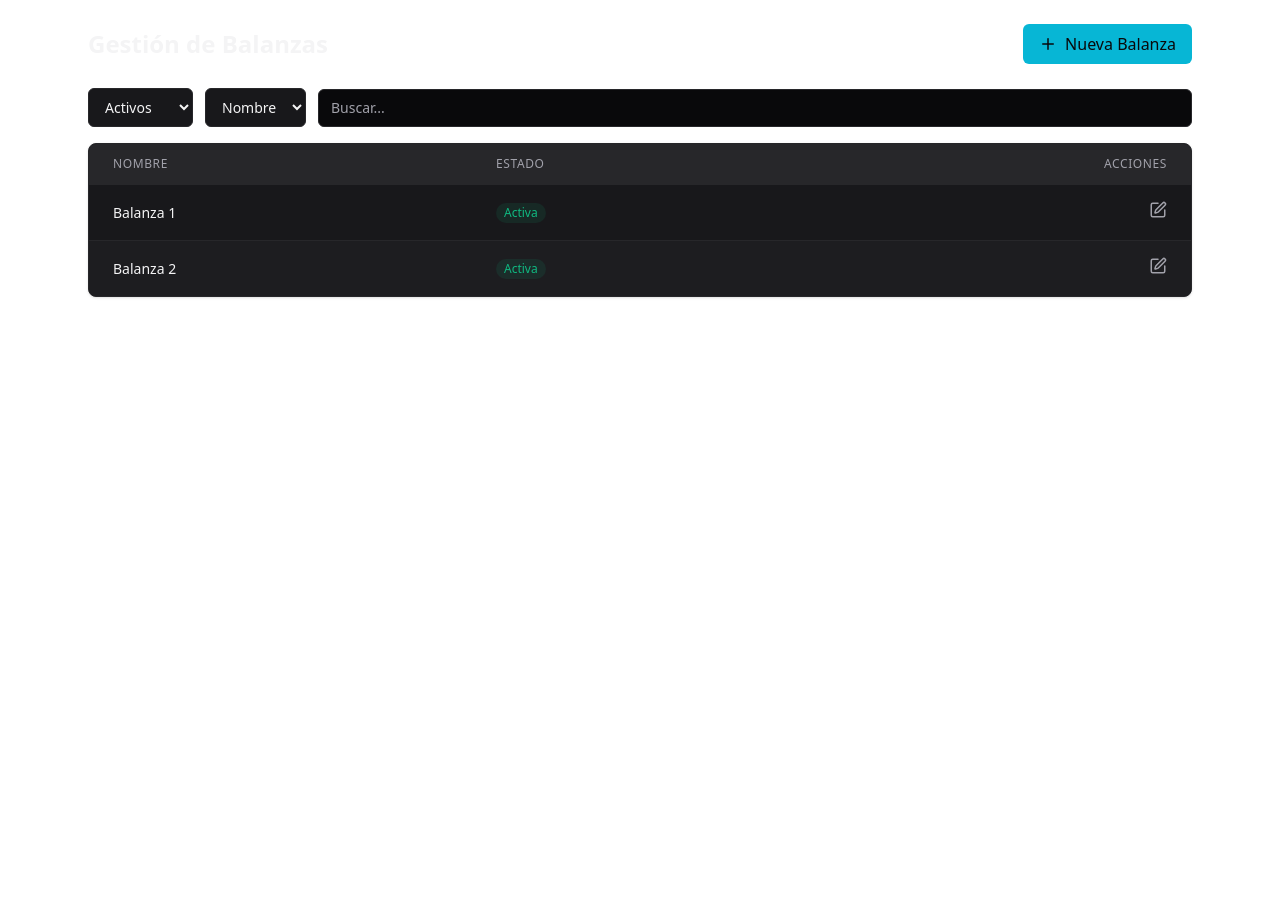
BalanzasPage › delete confirm dialog › confirming the delete dialog sends the DELETE request and closes both dialogs
This screenshot has width=1280, height=900.
Check: the text "Balanza 1" is shown, box x1=89 y1=184 x2=472 y2=240
What coordinates should you click on to do the following:
click the button titled "Editar" in the row of "Balanza 1"
I would click on:
 (1158, 210)
Its box is x1=1149 y1=201 x2=1167 y2=219.
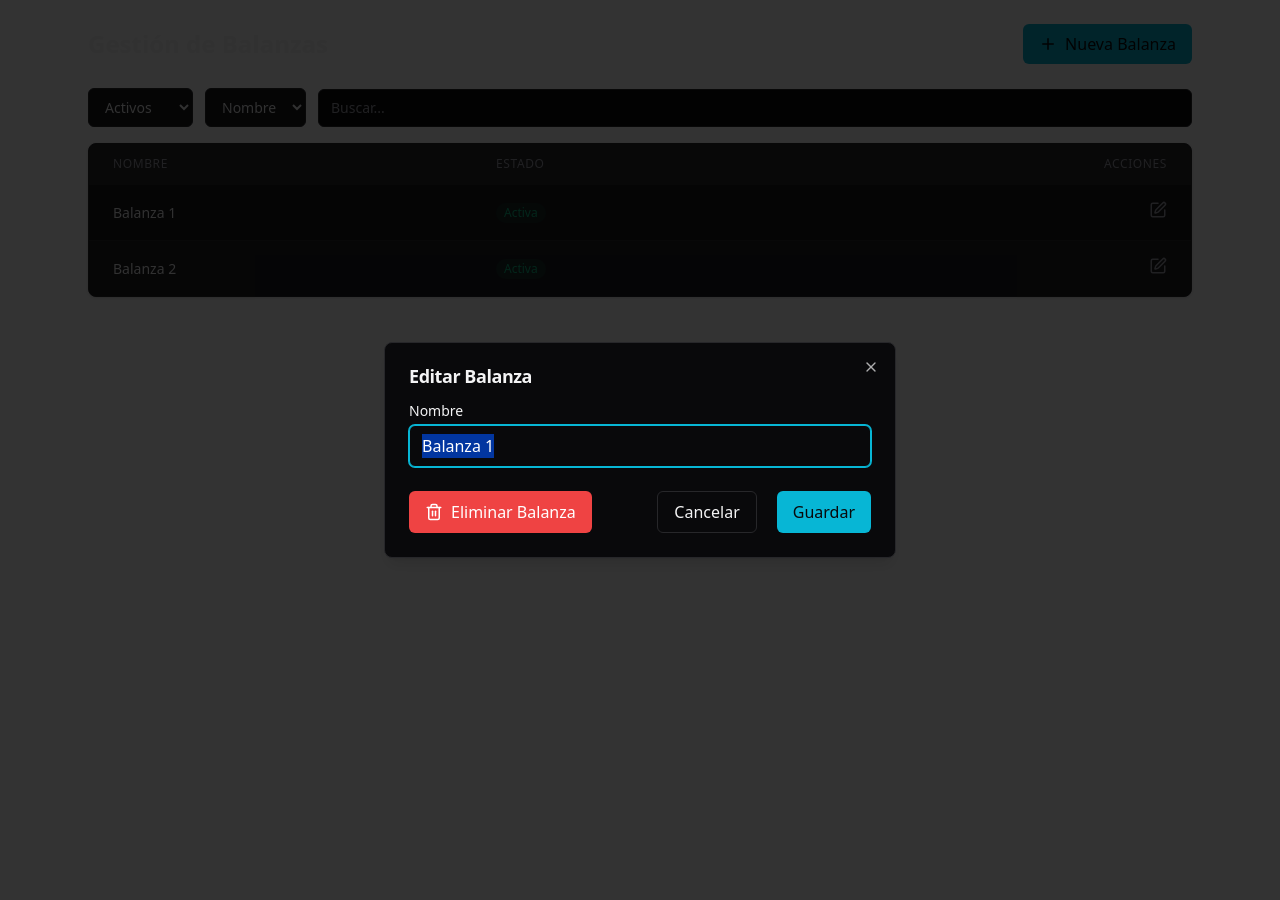
What coordinates should you click on to do the following:
click the button "Eliminar Balanza"
I would click on:
 (500, 512)
Its box is x1=409 y1=491 x2=592 y2=533.
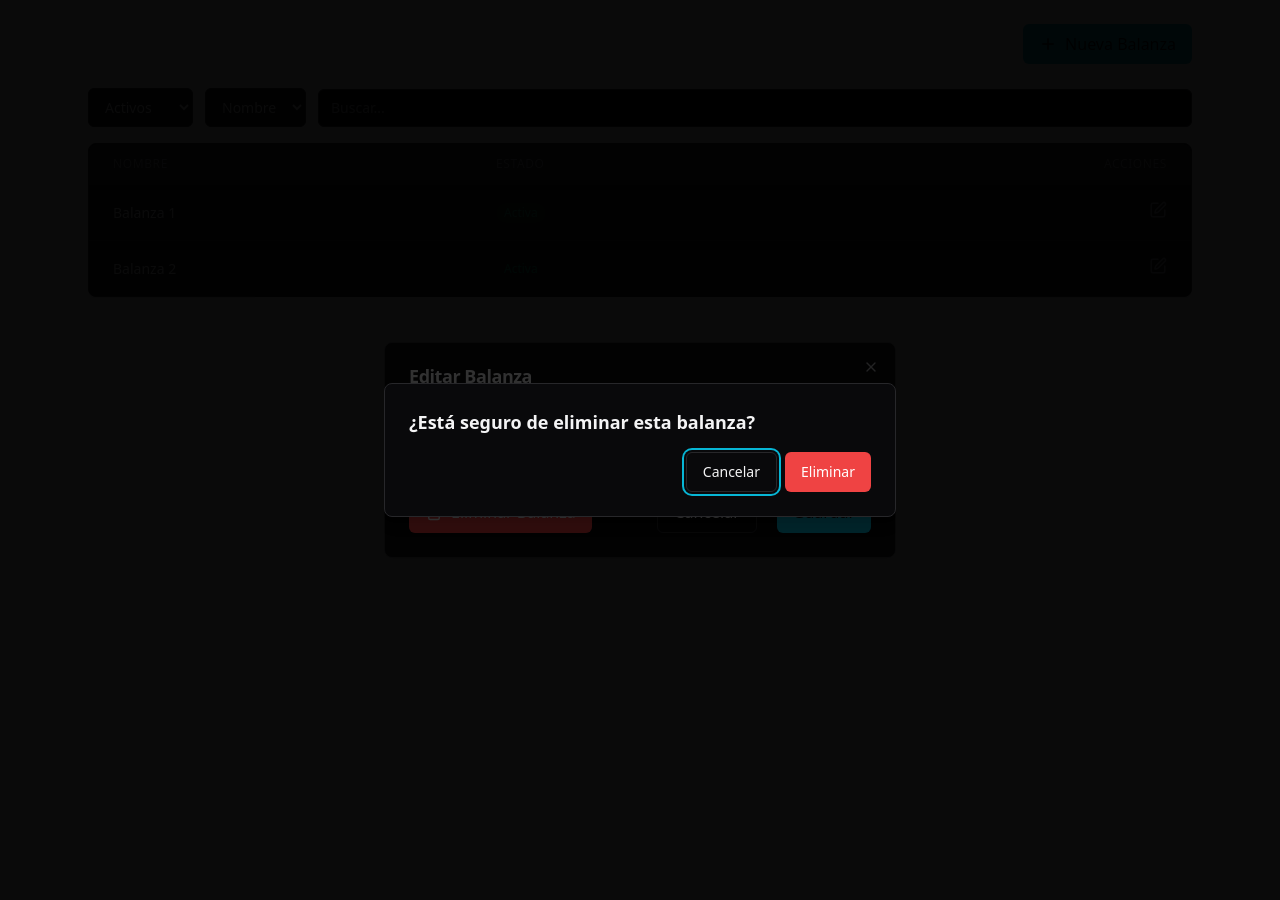
What coordinates should you click on to do the following:
click the button "Eliminar"
I would click on:
 (828, 472)
Its box is x1=785 y1=452 x2=871 y2=492.
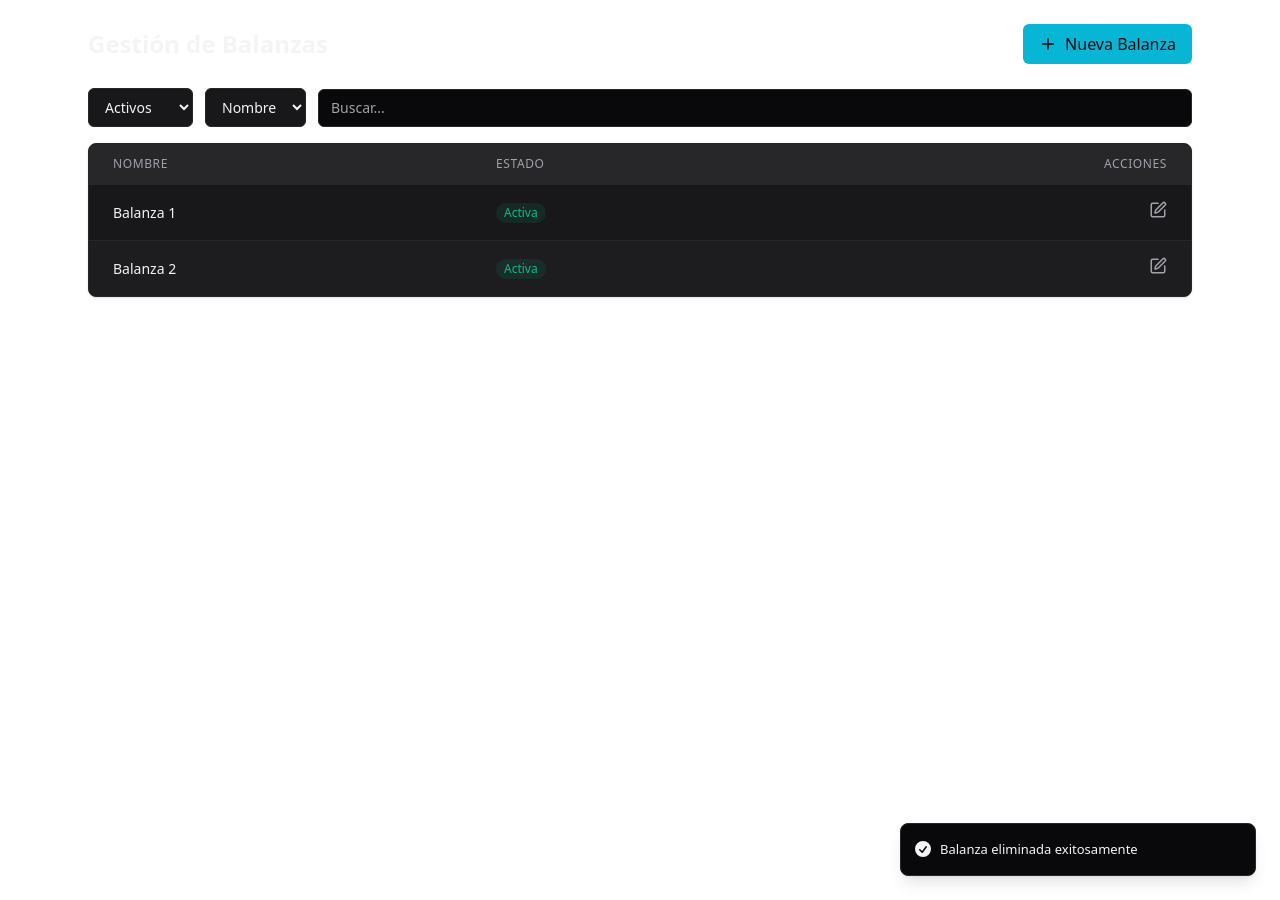
Check: the dialog is gone
Check: the heading "Editar Balanza" is gone
